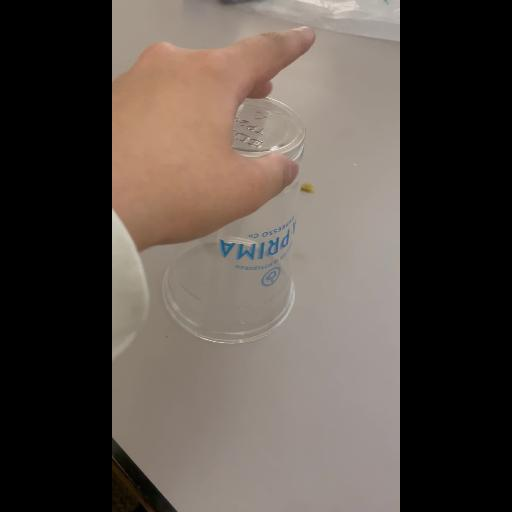lp_plastic_cup: (164, 92, 300, 348)
